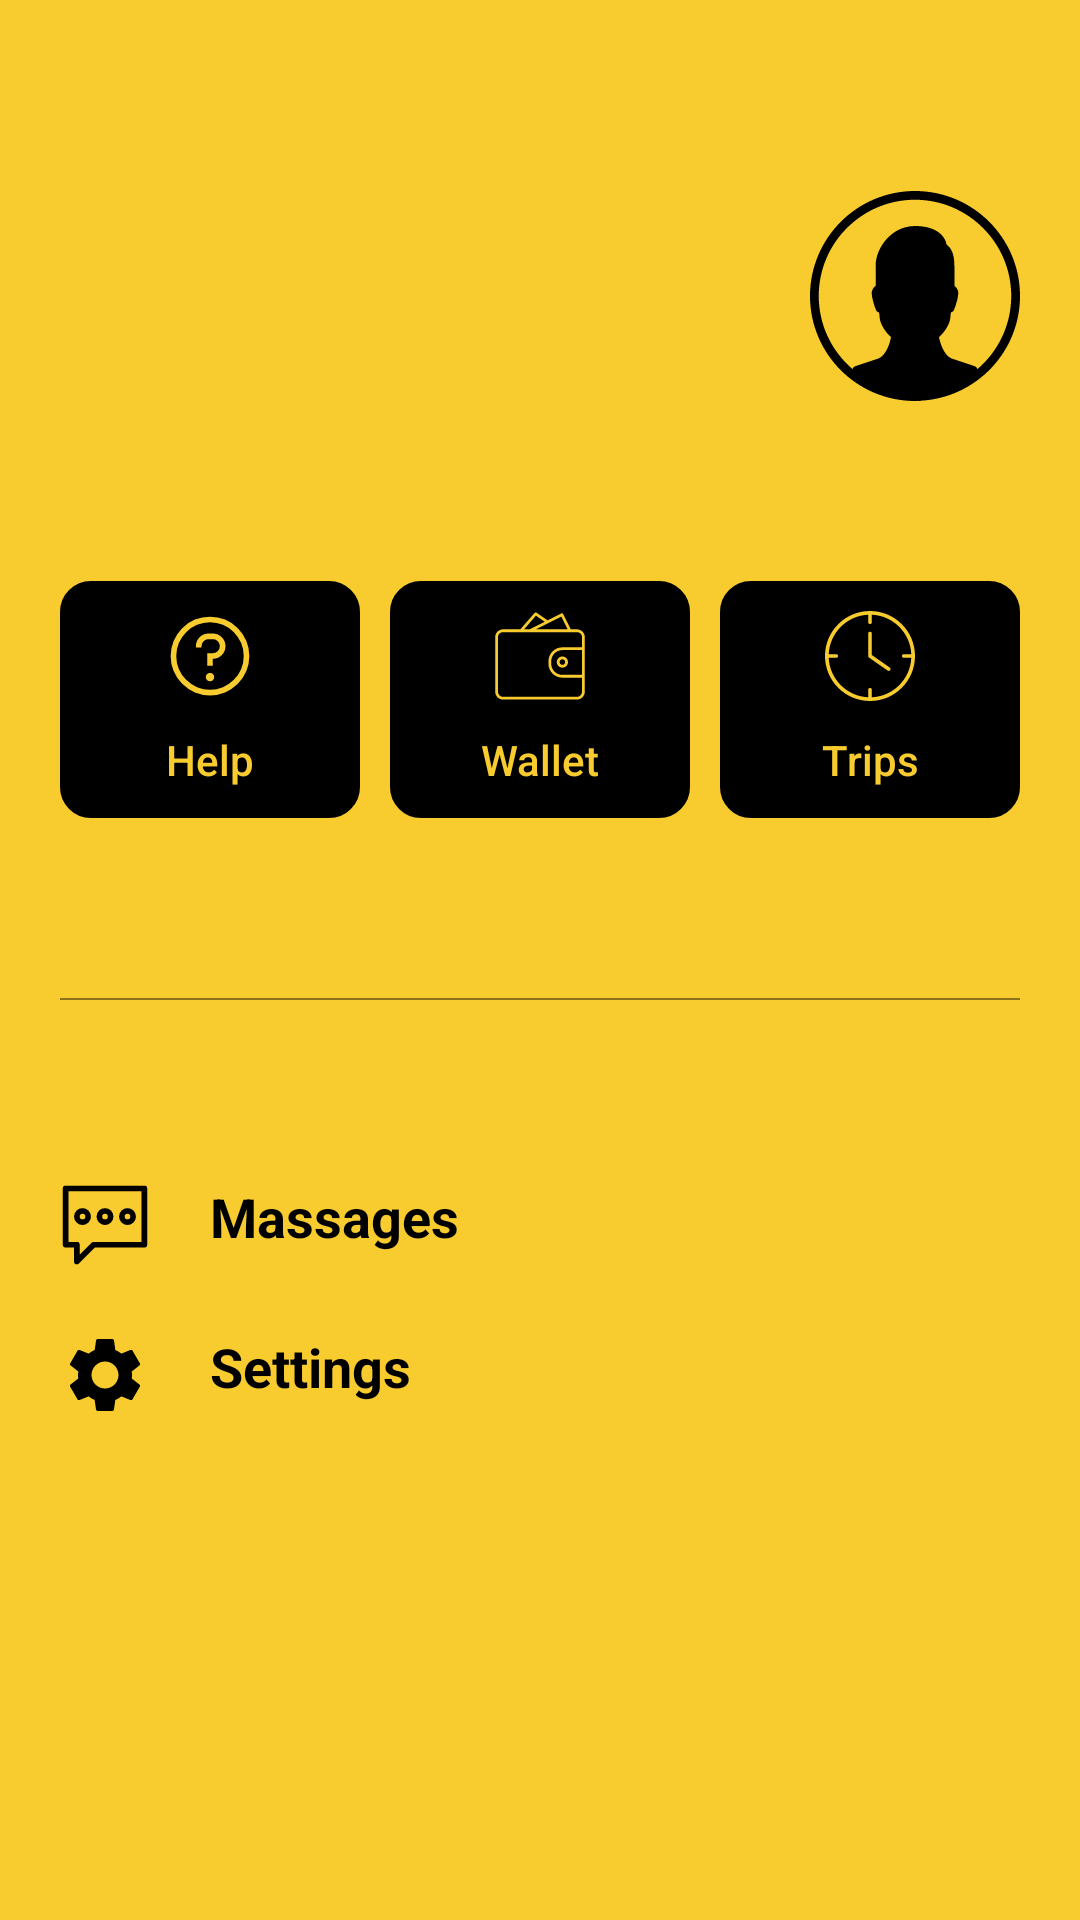

Where icons sit on this 1080px x 1920px app screen, as bbox=[x1, y1, x2, y2]:
user profile: bbox=[810, 191, 1020, 401]
